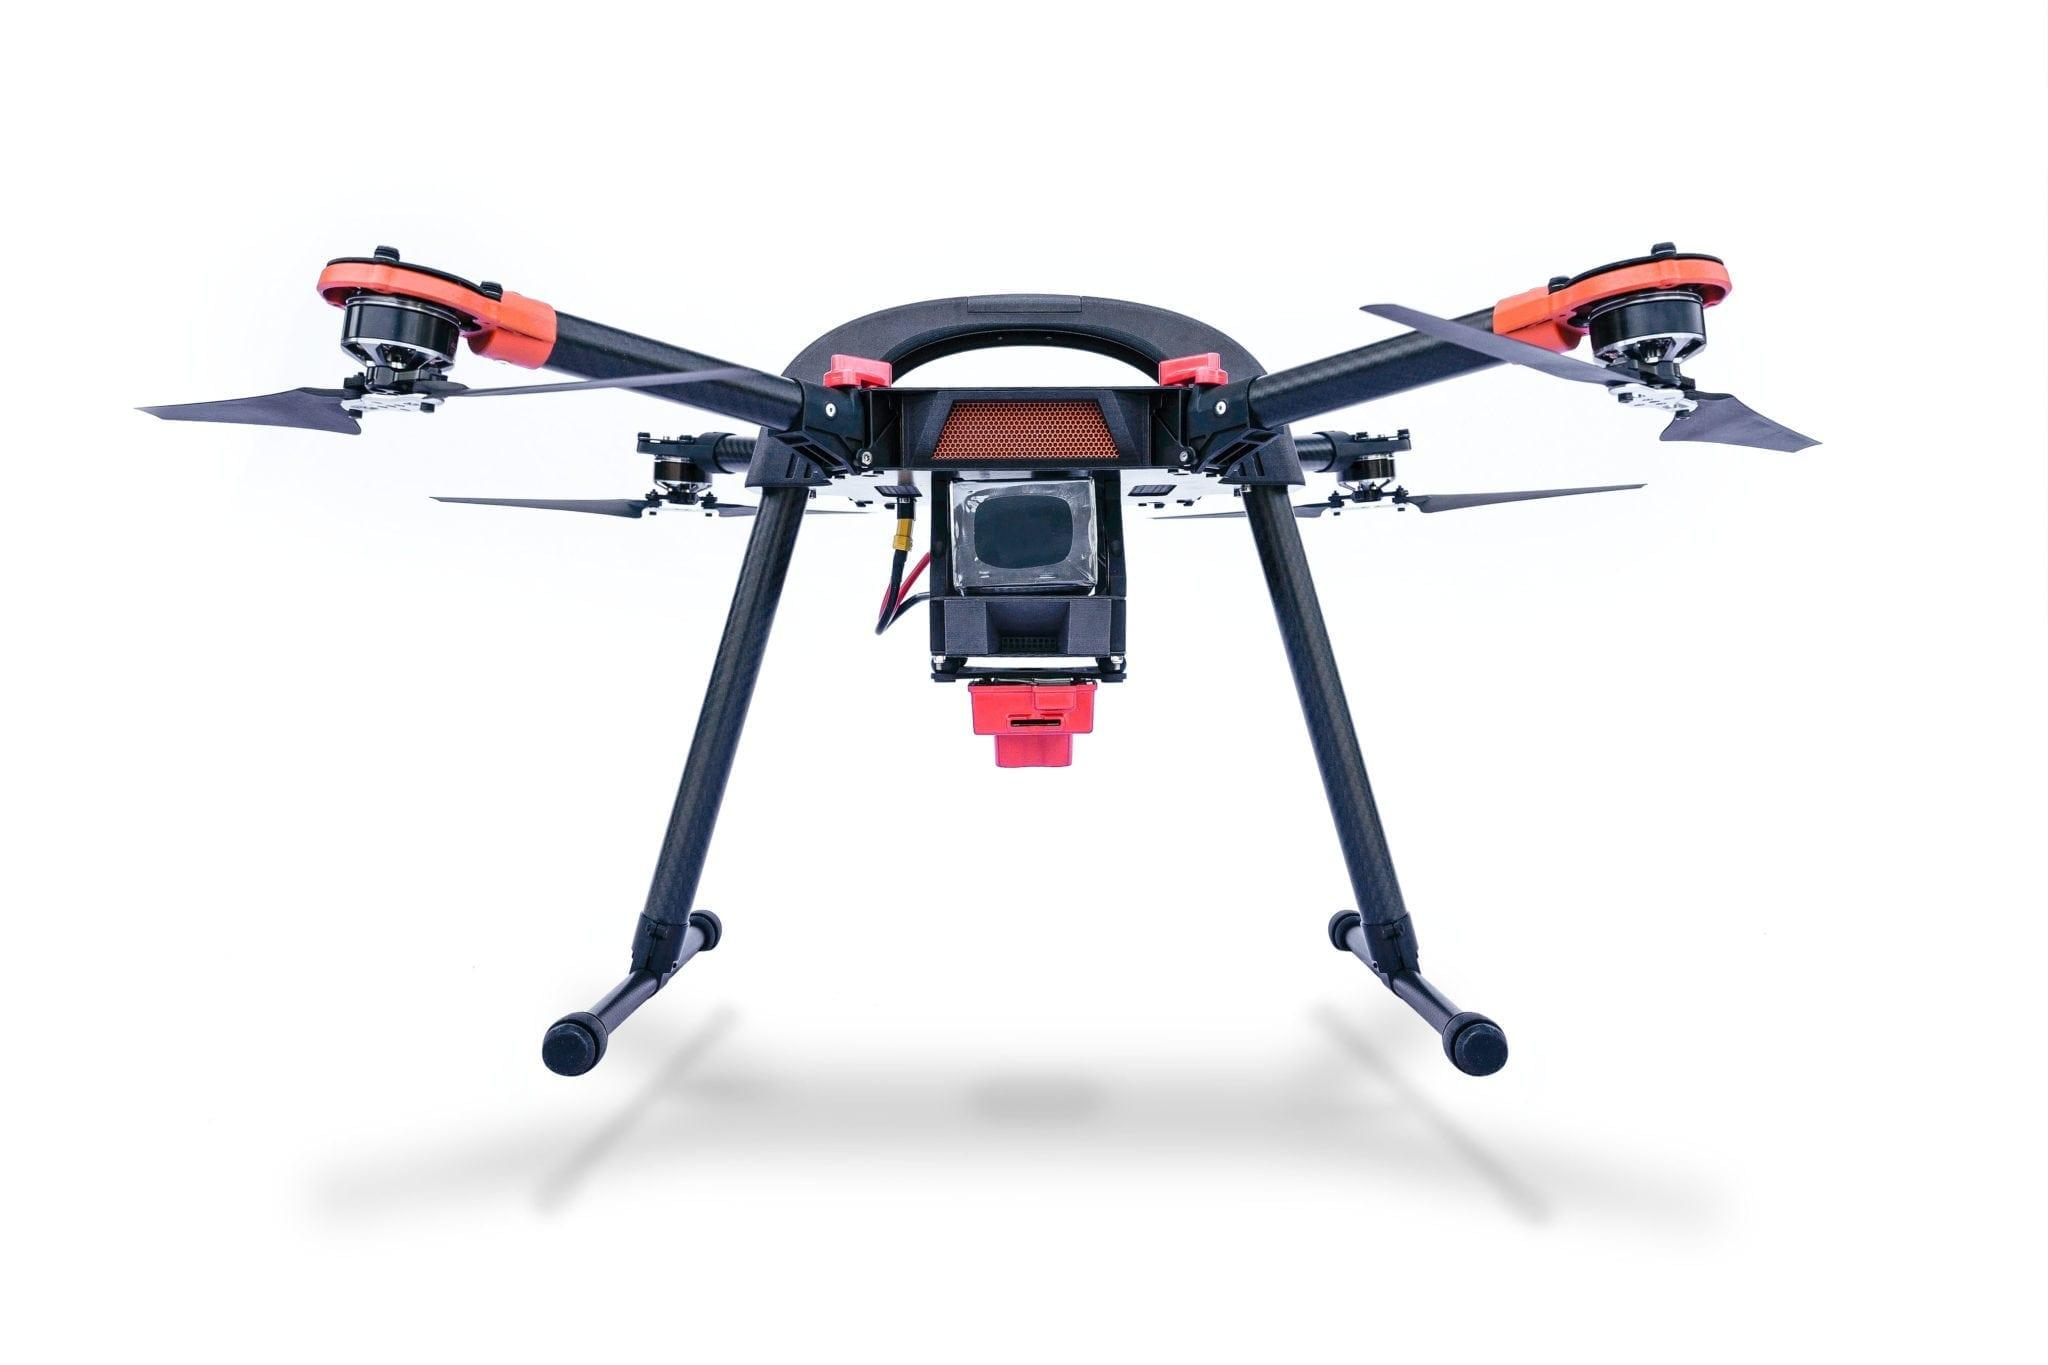drone: (169, 193, 1836, 667)
